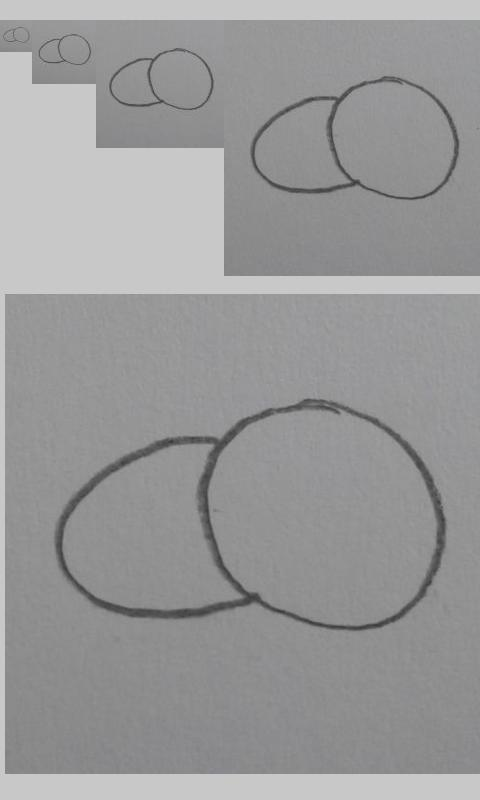switch: (54, 398, 447, 631), (249, 76, 460, 200), (108, 48, 214, 111), (38, 34, 92, 66), (2, 26, 31, 44)
